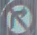Don't turn right: (1, 2, 32, 34)
